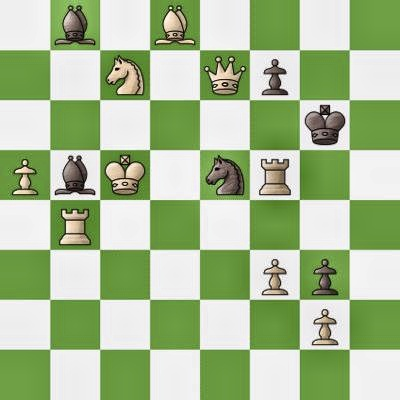black-bishop: (50, 0, 100, 50), (50, 150, 100, 200)
black-king: (300, 100, 350, 150)
black-knight: (200, 150, 250, 200)
black-pawn: (250, 50, 300, 100), (300, 250, 350, 300)
white-bishop: (150, 0, 200, 50)
white-king: (100, 150, 150, 200)
white-knight: (100, 50, 150, 100)
white-pawn: (0, 150, 50, 200), (250, 250, 300, 300), (300, 300, 350, 350)
white-queen: (200, 50, 250, 100)
white-rook: (250, 150, 300, 200), (50, 200, 100, 250)
